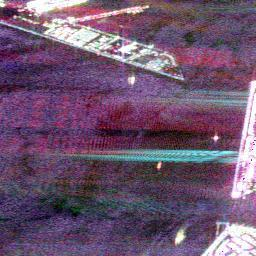Ship: (173, 229, 186, 245), (207, 133, 223, 142), (155, 157, 163, 172), (127, 75, 137, 84)
